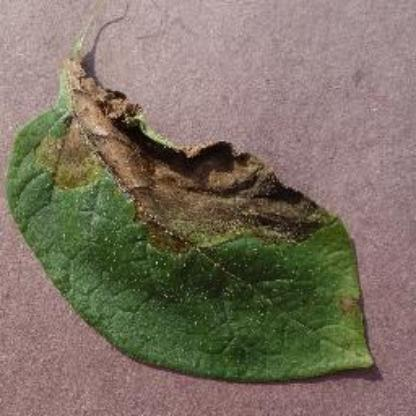Late-Blight: (6, 38, 396, 388)
